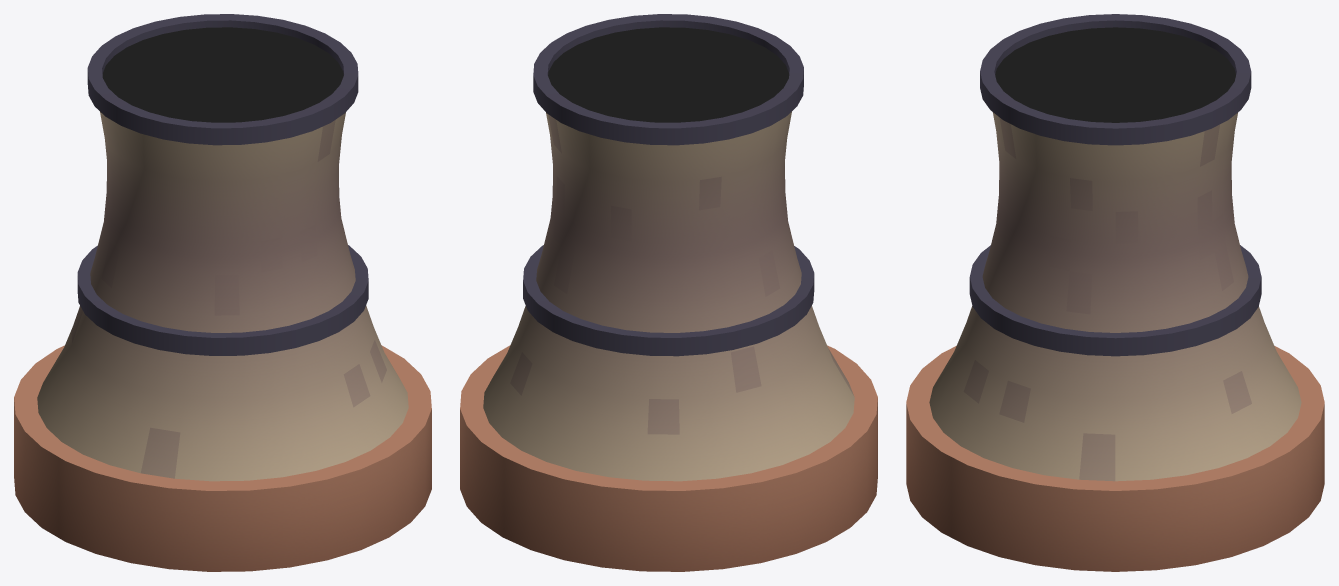
File: BuildingTube_Big.fbx
3 renders of one model, left to right at view 1: azimuth 30°, elevation 25°; view 2: azimuth 150°, elevation 25°; view 3: azimuth 270°, elevation 25°, orthographic.
Visible parts, largest first — view 1: BuildingTube_Big; view 2: BuildingTube_Big; view 3: BuildingTube_Big.
Part boxes in pixels (x1,y1,x2,y2): BuildingTube_Big: (14, 14, 431, 571); BuildingTube_Big: (460, 14, 877, 571); BuildingTube_Big: (906, 14, 1324, 571).
Bounding box in the file's own units: 1778 × 1932 × 1778.
